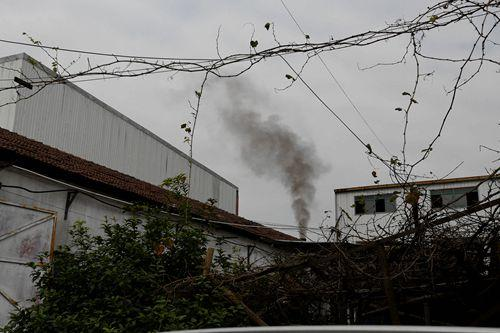smoke: (241, 89, 323, 217)
